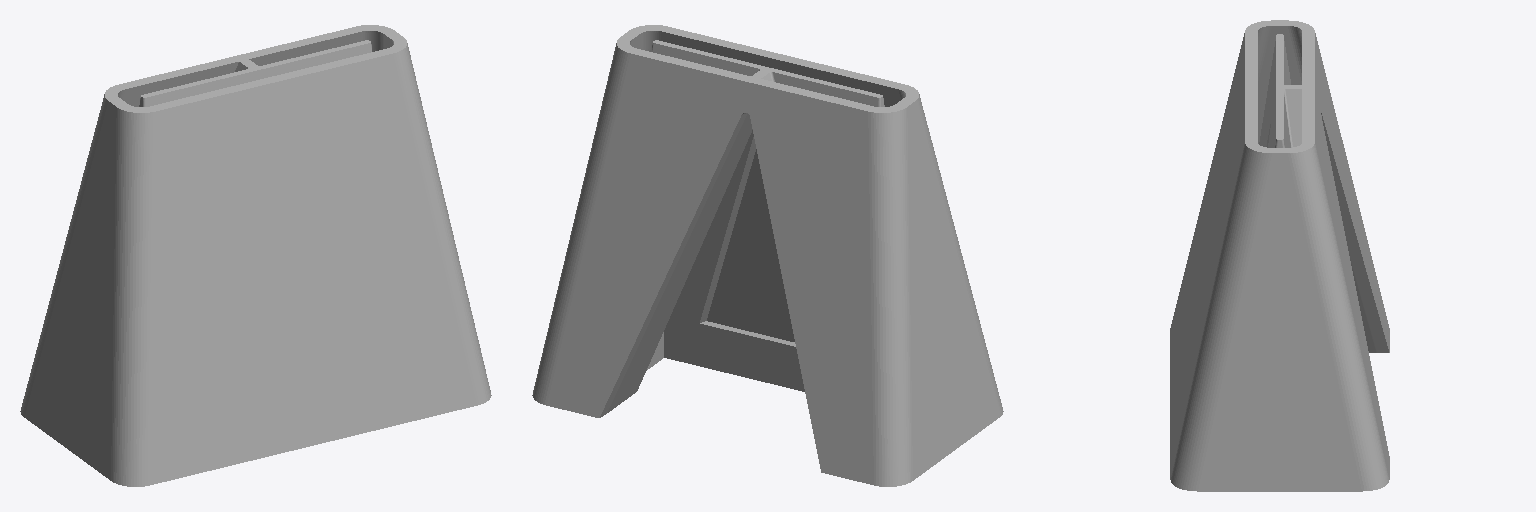
URDF robot description (root):
<?xml version='1.0' encoding='utf-8'?>
<robot name="root">
  <link name="link_001">
    <visual>
      <origin xyz="0 0 0" rpy="0 0 0" />
      <geometry>
        <mesh filename="3f8fc4956874975af6e789029334020bed93b5294a99067c82c7858dcc6a5b15_scale_000.stl" scale="1.0000E+00 1.0000E+00 1.0000E+00" />
      </geometry>
      <material name="">
        <color rgba="7.50E-01 7.50E-01 7.50E-01 1" />
      </material>
    </visual>
    <collision>
      <origin xyz="0 0 0" rpy="0 0 0" />
      <geometry>
        <mesh filename="3f8fc4956874975af6e789029334020bed93b5294a99067c82c7858dcc6a5b15_scale_000.stl" scale="1.0000E+00 1.0000E+00 1.0000E+00" />
      </geometry>
    </collision>
  </link>
</robot>

--- Facts derived from the render (not from the file) ---
3 views of the same robot in one strip: view 1: azimuth 30°, elevation 25°; view 2: azimuth 150°, elevation 25°; view 3: azimuth 270°, elevation 25° (orthographic).
Robot: root — 1 links, 0 joints (none); root link link_001; default pose: all joints at 0.
Links seen in each view (by area): view 1: link_001; view 2: link_001; view 3: link_001.
Boxes of the visible links, bbox=[...] form: link_001: bbox=[20, 25, 491, 486]; link_001: bbox=[532, 25, 1003, 486]; link_001: bbox=[1170, 20, 1389, 491].
Bounding box of the posed robot: 0.12 × 0.0637 × 0.1018 m (x, y, z).
1 mesh visuals loaded from 1 distinct referenced files (1 binary STL).
